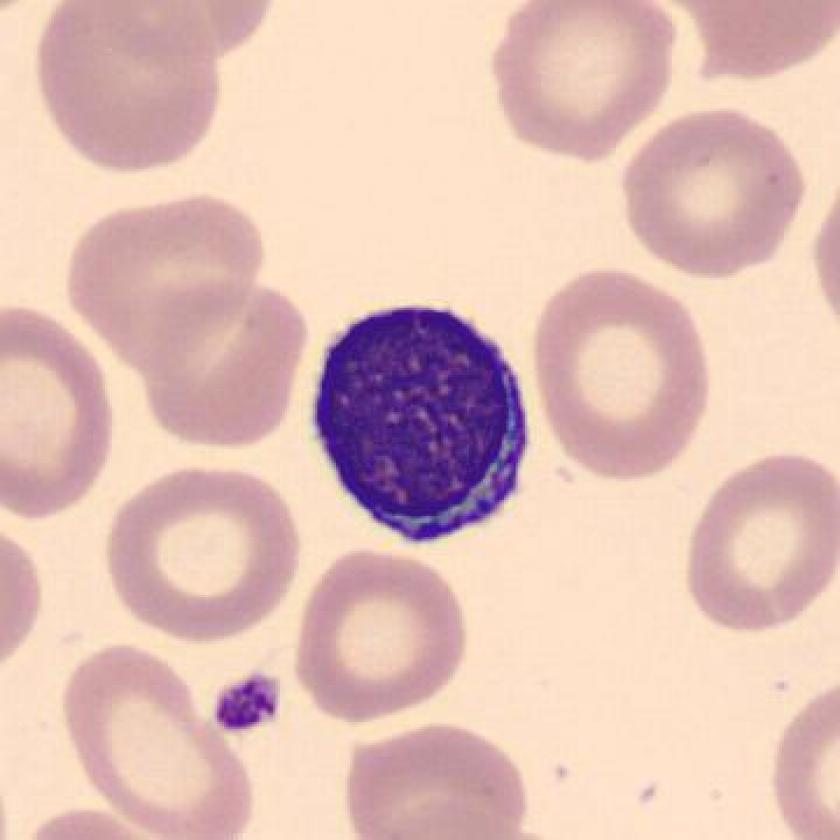lymphocyte: (293, 286, 552, 556)
